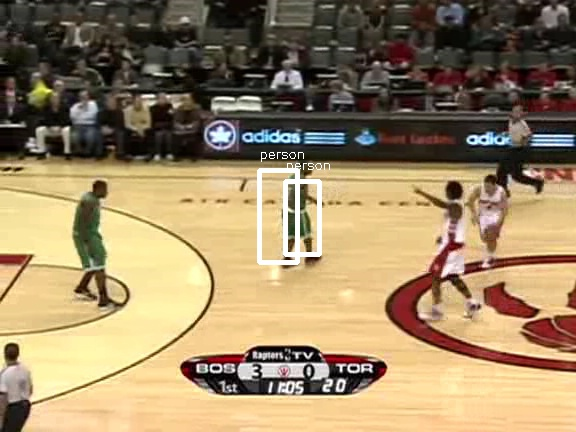person: (280, 169, 314, 250), (279, 169, 313, 250), (281, 169, 315, 250), (280, 168, 314, 249), (280, 170, 314, 251)
target_negative: (336, 44, 493, 395), (66, 306, 482, 400), (96, 159, 499, 213), (40, 354, 186, 427), (211, 354, 493, 364), (491, 154, 520, 188)
